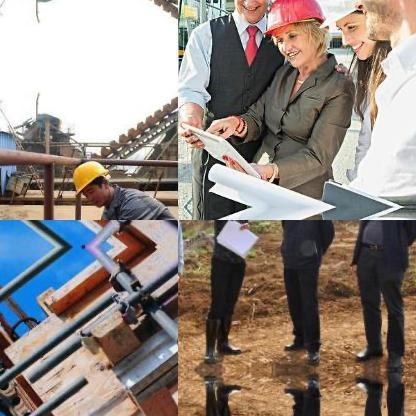Helmet: (264, 0, 326, 67), (320, 0, 386, 59), (337, 0, 415, 42), (66, 154, 116, 206), (223, 0, 280, 19)
